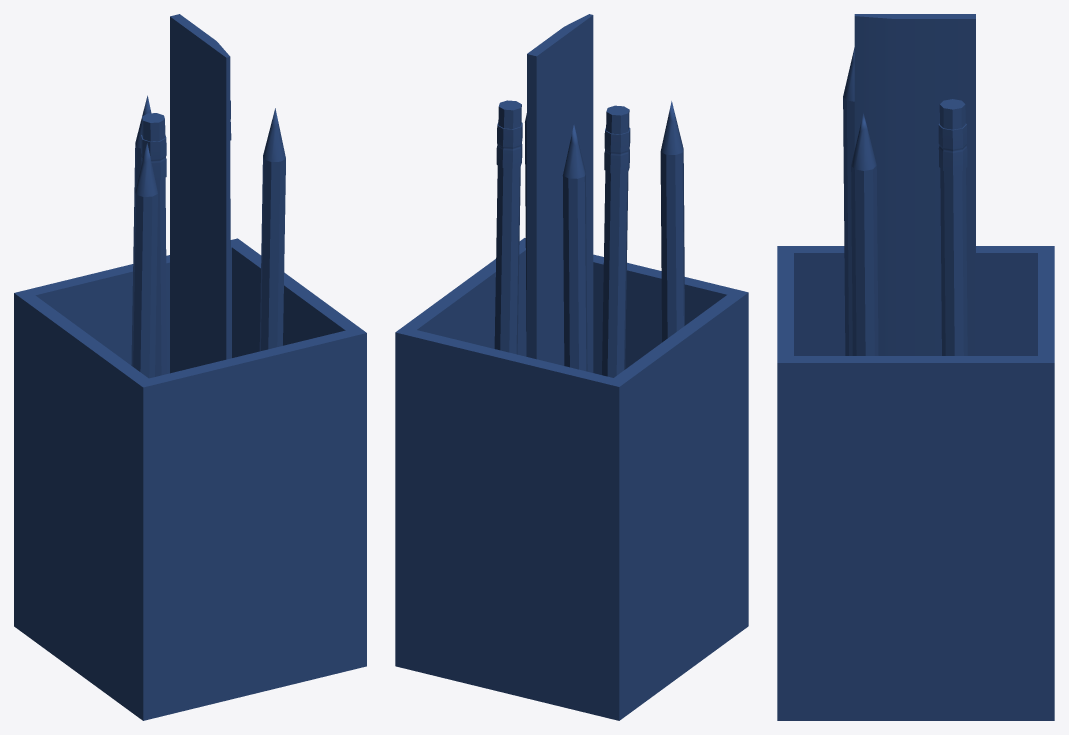
File: pennen bakje.fbx
The picture shows the model from 3 angles, left to right: view 1: azimuth 30°, elevation 25°; view 2: azimuth 150°, elevation 25°; view 3: azimuth 270°, elevation 25°; orthographic projection. The views are drawn at different scales.
Visible parts, largest first — view 1: potje, liniaal, potlood5, potlood1, potlood4, potlood2; view 2: potje, liniaal, potlood4, potlood3, potlood2, potlood1; view 3: potje, liniaal, potlood3, potlood5, potlood1.
Boxes of the visible parts, bbox=[...] form: potje: bbox=[14, 238, 366, 720]; liniaal: bbox=[170, 14, 230, 373]; potlood5: bbox=[259, 108, 285, 351]; potlood1: bbox=[132, 143, 157, 378]; potlood4: bbox=[141, 113, 167, 376]; potlood2: bbox=[131, 95, 151, 365]; potje: bbox=[395, 238, 748, 720]; liniaal: bbox=[527, 14, 593, 372]; potlood4: bbox=[602, 105, 630, 377]; potlood3: bbox=[494, 100, 522, 354]; potlood2: bbox=[562, 125, 587, 371]; potlood1: bbox=[660, 101, 684, 342]; potje: bbox=[777, 246, 1054, 720]; liniaal: bbox=[854, 14, 975, 355]; potlood3: bbox=[938, 99, 967, 355]; potlood5: bbox=[851, 113, 878, 355]; potlood1: bbox=[843, 47, 854, 355].
Size of the model in its own units: 99.66 by 259 by 99.66.
